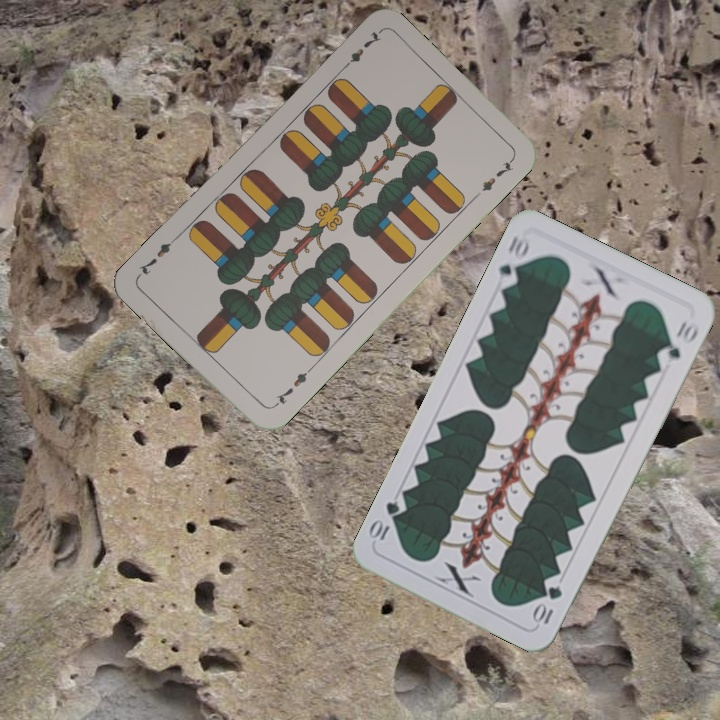E7: (268, 364, 315, 411), (337, 27, 384, 74)
G10: (493, 231, 533, 290), (530, 582, 565, 628)
